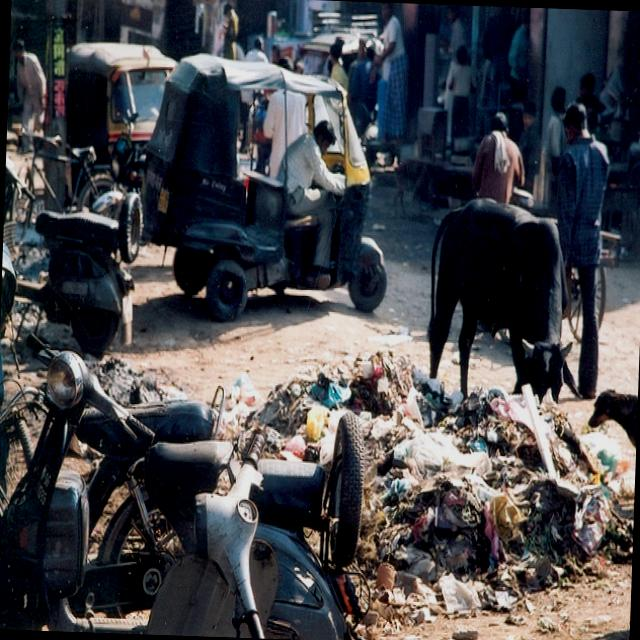Vehicle: (0, 334, 380, 640), (66, 379, 224, 617), (0, 152, 149, 354), (188, 418, 270, 634), (90, 107, 148, 215)
